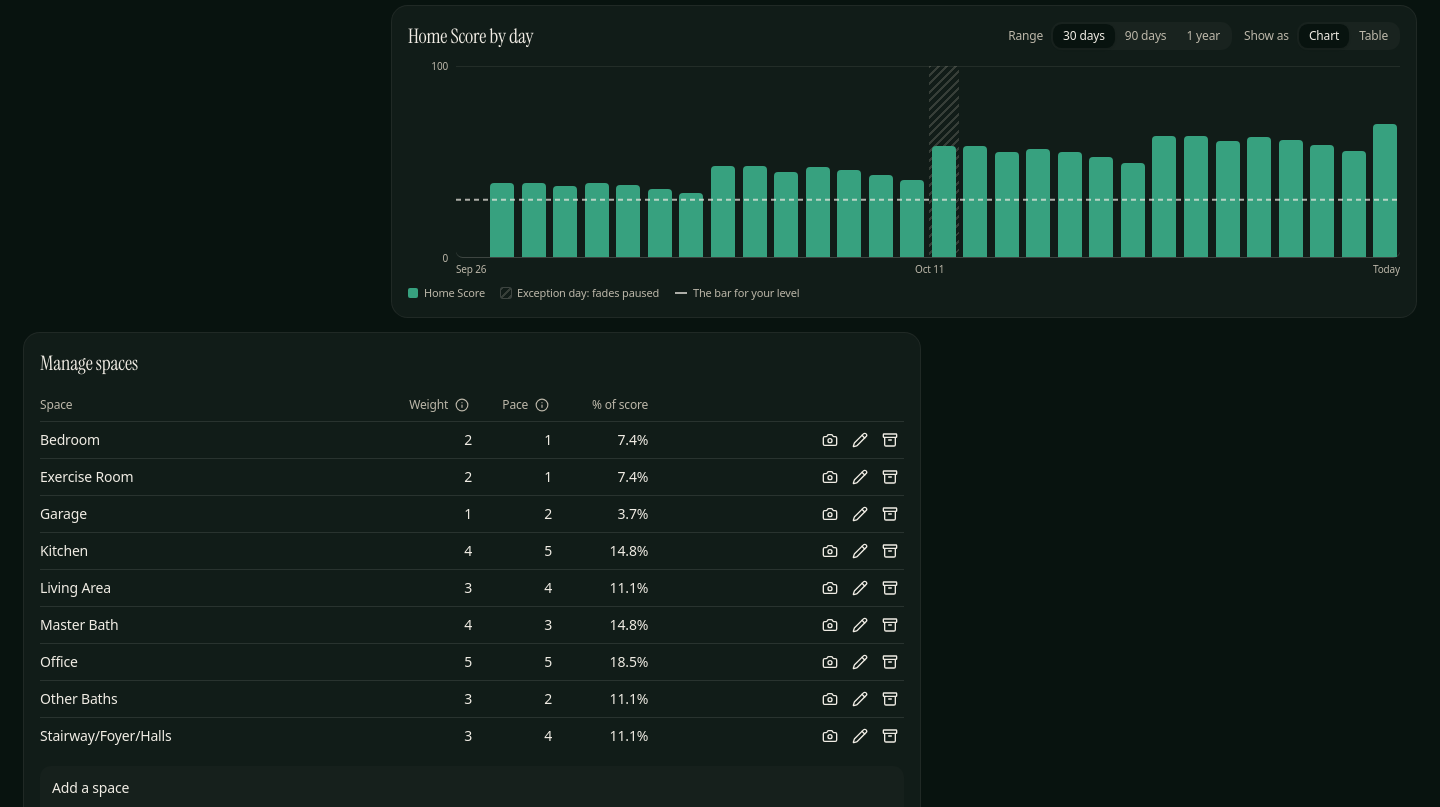
Test: Environment page: Manage spaces (HOME-1, Chris's "Environment Page cleanup") › says what weight and pace mean in tips once there are spaces, not in words
The image size is (1440, 807).
(page scrolled)
Expected: the table is shown, [40,389,904,754]
Expected: the text "Pace: how fast" is not shown
Hover over the button named "About pace" at [542, 405], box [532,395,552,415]
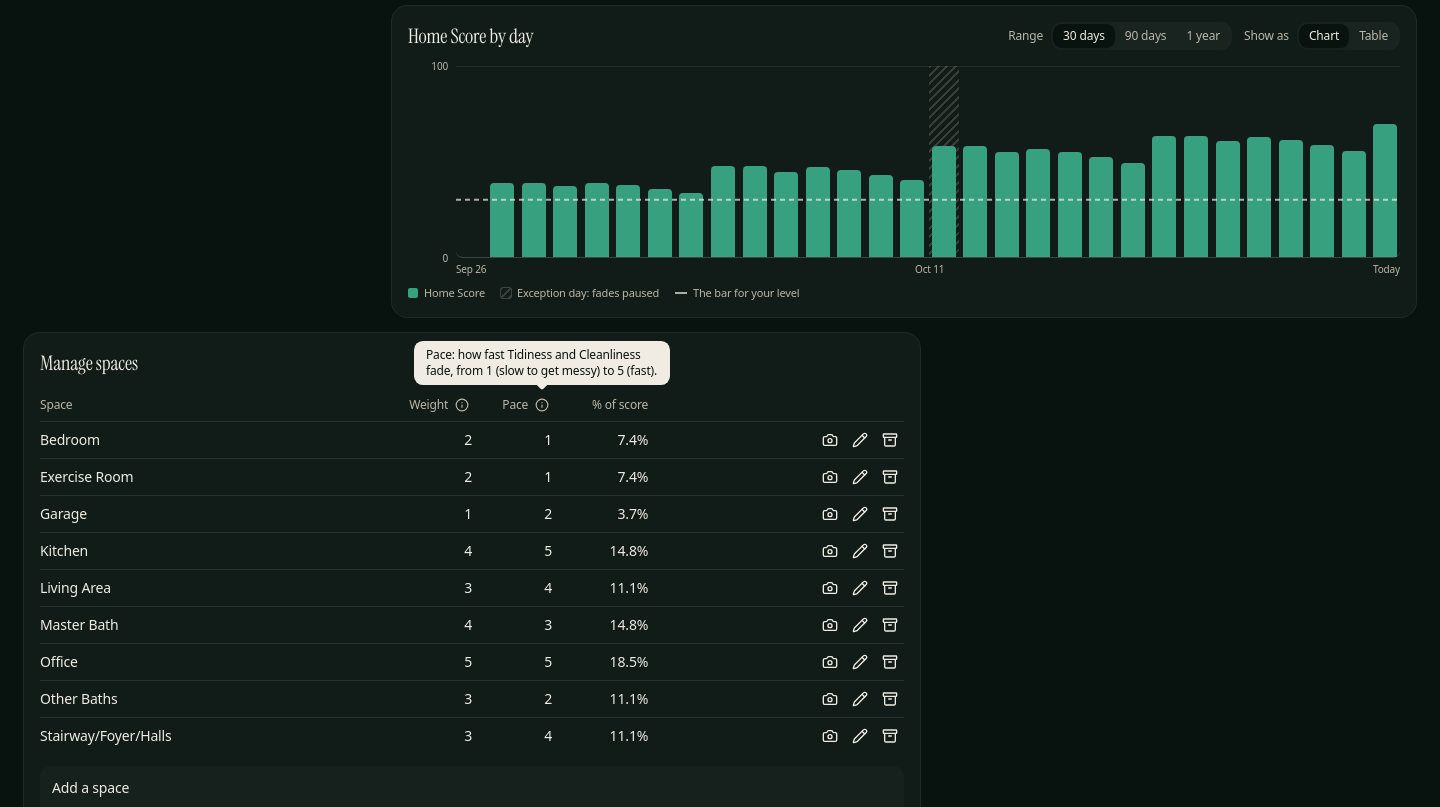
Expected: the tooltip shows "how fast Tidiness and Cleanliness fade", [426,346,657,379]
